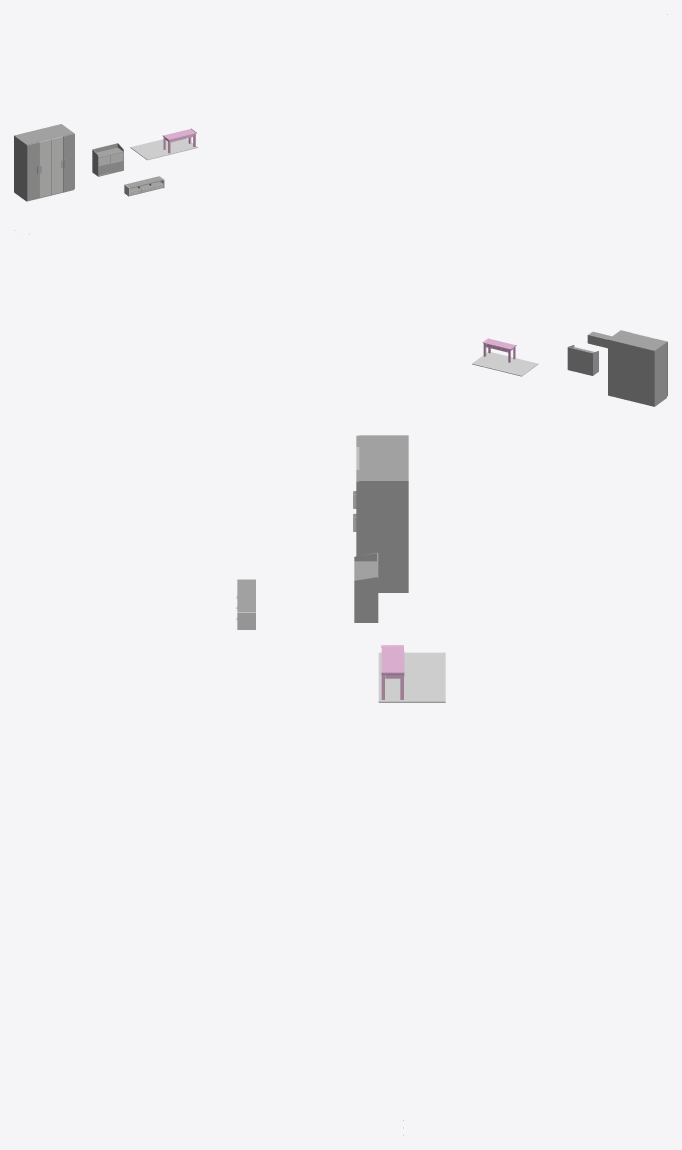
The model's file is family.glb.
3 views of the same model, one above another, from view 1: azimuth 30°, elevation 25°; view 2: azimuth 150°, elevation 25°; view 3: azimuth 270°, elevation 25° (orthographic). The views are drawn at different scales.
Visible parts, largest first — view 1: 门4 (×4), floor, 大衣柜左.1, 上; view 2: 大衣柜后, floor, 大衣柜左.1, 上, 鞋柜后; view 3: 大衣柜右, floor, 上, 侧板.
Part boxes in pixels (x1=…): 门4 (×4): x1=26, y1=133, x2=74, y2=200; floor: x1=130, y1=138, x2=198, y2=160; 大衣柜左.1: x1=14, y1=136, x2=26, y2=198; 上: x1=14, y1=124, x2=73, y2=144; 大衣柜后: x1=609, y1=340, x2=653, y2=404; floor: x1=472, y1=352, x2=538, y2=376; 大衣柜左.1: x1=654, y1=343, x2=666, y2=404; 上: x1=608, y1=330, x2=666, y2=351; 鞋柜后: x1=567, y1=347, x2=593, y2=375; 大衣柜右: x1=359, y1=482, x2=408, y2=588; floor: x1=378, y1=652, x2=445, y2=702; 上: x1=359, y1=435, x2=408, y2=482; 侧板: x1=354, y1=576, x2=376, y2=621.
Size of the model in its own units: 13160 by 1097 by 1855.
